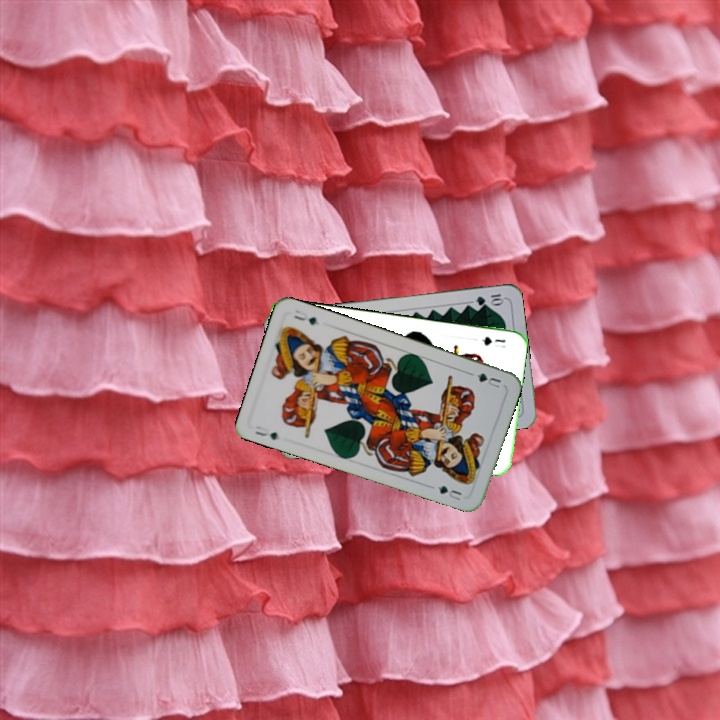G10: (472, 290, 506, 308)
GU: (473, 369, 504, 391), (250, 421, 280, 442), (478, 332, 508, 348)
